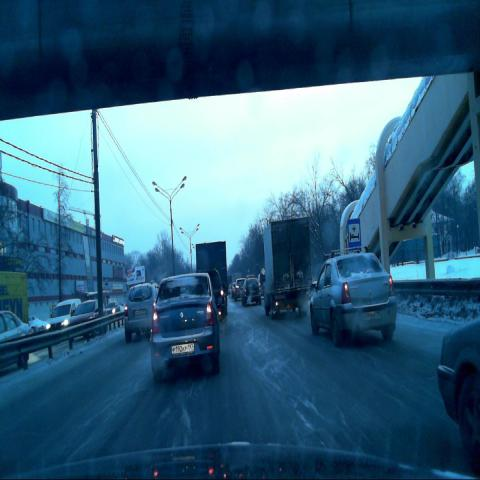7_2: (347, 218, 361, 250)
